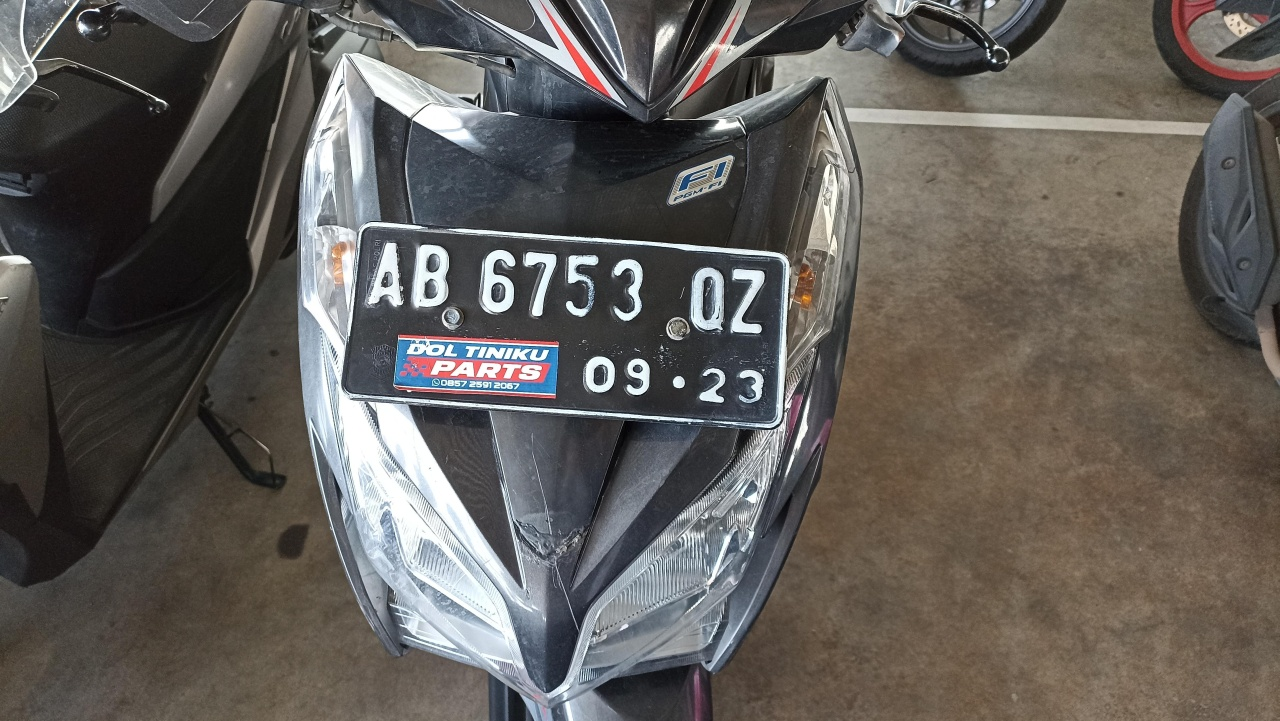plate: (342, 223, 789, 429)
